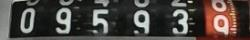digits: (90, 6, 110, 36), (169, 8, 189, 36), (54, 6, 72, 35), (131, 10, 151, 36), (211, 15, 231, 38), (19, 8, 36, 32)
